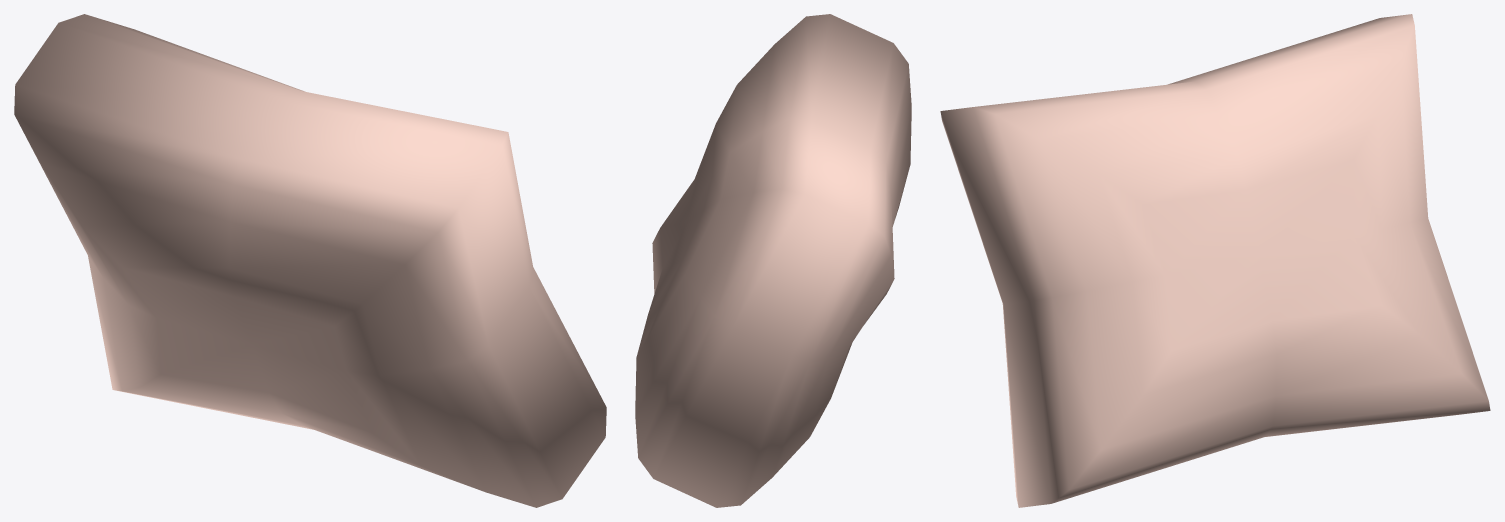
Rendered from couch_pillow.gltf.
3 renders of one model, left to right at view 1: azimuth 30°, elevation 25°; view 2: azimuth 150°, elevation 25°; view 3: azimuth 270°, elevation 25°, orthographic. The views are drawn at different scales.
Visible parts, largest first — view 1: Pillow (Sofa); view 2: Pillow (Sofa); view 3: Pillow (Sofa).
Boxes of the visible parts, left/top/right/bottom form: Pillow (Sofa): left=14, top=14, right=606, bottom=507; Pillow (Sofa): left=635, top=14, right=911, bottom=507; Pillow (Sofa): left=940, top=14, right=1490, bottom=507.
Bounding box in the file's own units: 0.4721 × 0.4092 × 0.5598.
Materials: 1 (1 with a texture image).
